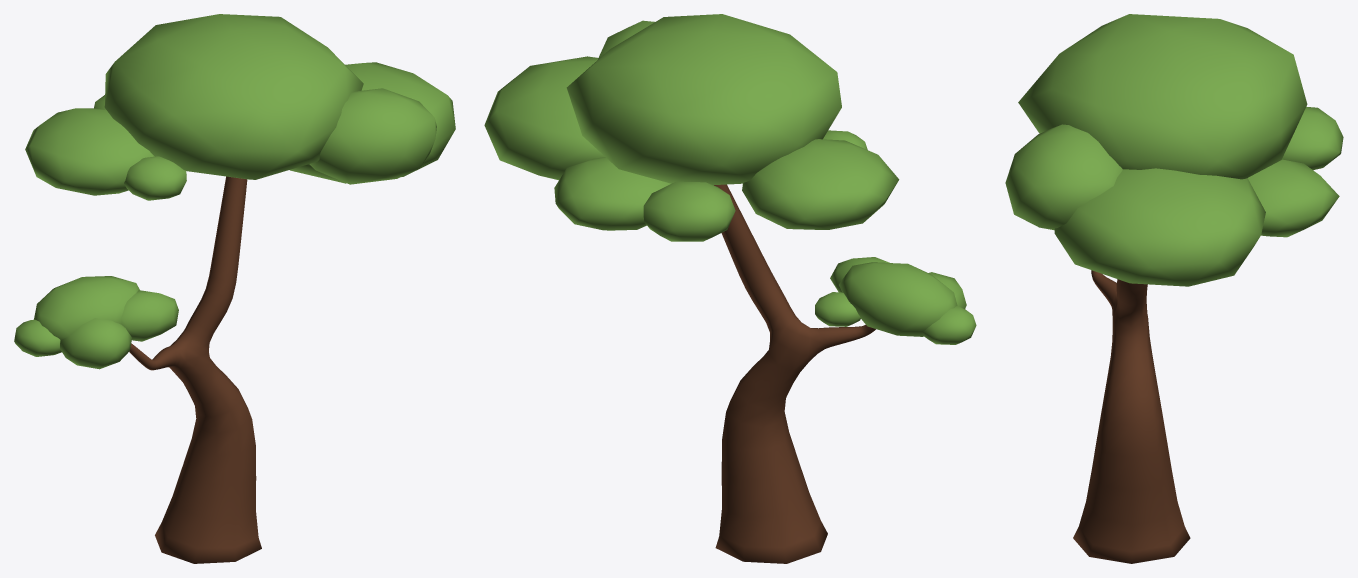
File: Дерево — копия.fbx
3 views of the same model, side by side, from view 1: azimuth 30°, elevation 25°; view 2: azimuth 150°, elevation 25°; view 3: azimuth 270°, elevation 25° (orthographic). The views are drawn at different scales.
Parts seen in each view (by area): view 1: Icosphere.002, Plane, Icosphere.010, Icosphere.003, Icosphere.005, Icosphere.004, Icosphere.001, Icosphere, Icosphere.009, Icosphere.006; view 2: Icosphere.002, Plane, Icosphere.003, Icosphere.004, Icosphere.005, Icosphere.008, Icosphere.011, Icosphere.006, Icosphere.007; view 3: Icosphere.002, Plane, Icosphere.004, Icosphere.010, Icosphere.008, Icosphere.011.
Boxes of the visible parts, bbox=[...] form: Icosphere.002: bbox=[104, 14, 363, 179]; Plane: bbox=[129, 176, 261, 563]; Icosphere.010: bbox=[309, 88, 436, 184]; Icosphere.003: bbox=[25, 108, 154, 195]; Icosphere.005: bbox=[34, 276, 139, 339]; Icosphere.004: bbox=[290, 62, 455, 183]; Icosphere.001: bbox=[60, 318, 131, 369]; Icosphere: bbox=[121, 290, 178, 341]; Icosphere.009: bbox=[124, 156, 186, 200]; Icosphere.006: bbox=[14, 319, 61, 356]; Icosphere.002: bbox=[566, 14, 841, 185]; Plane: bbox=[714, 184, 875, 563]; Icosphere.003: bbox=[742, 139, 899, 229]; Icosphere.004: bbox=[484, 56, 604, 180]; Icosphere.005: bbox=[839, 262, 957, 336]; Icosphere.008: bbox=[554, 157, 670, 230]; Icosphere.011: bbox=[643, 181, 735, 241]; Icosphere.006: bbox=[922, 306, 976, 344]; Icosphere.007: bbox=[815, 292, 860, 326]; Icosphere.002: bbox=[1018, 14, 1307, 179]; Plane: bbox=[1073, 270, 1190, 563]; Icosphere.004: bbox=[1054, 168, 1265, 286]; Icosphere.010: bbox=[1005, 124, 1122, 230]; Icosphere.008: bbox=[1248, 159, 1339, 237]; Icosphere.011: bbox=[1282, 106, 1343, 170].
Size of the model in its own units: 551 by 582 by 335.
